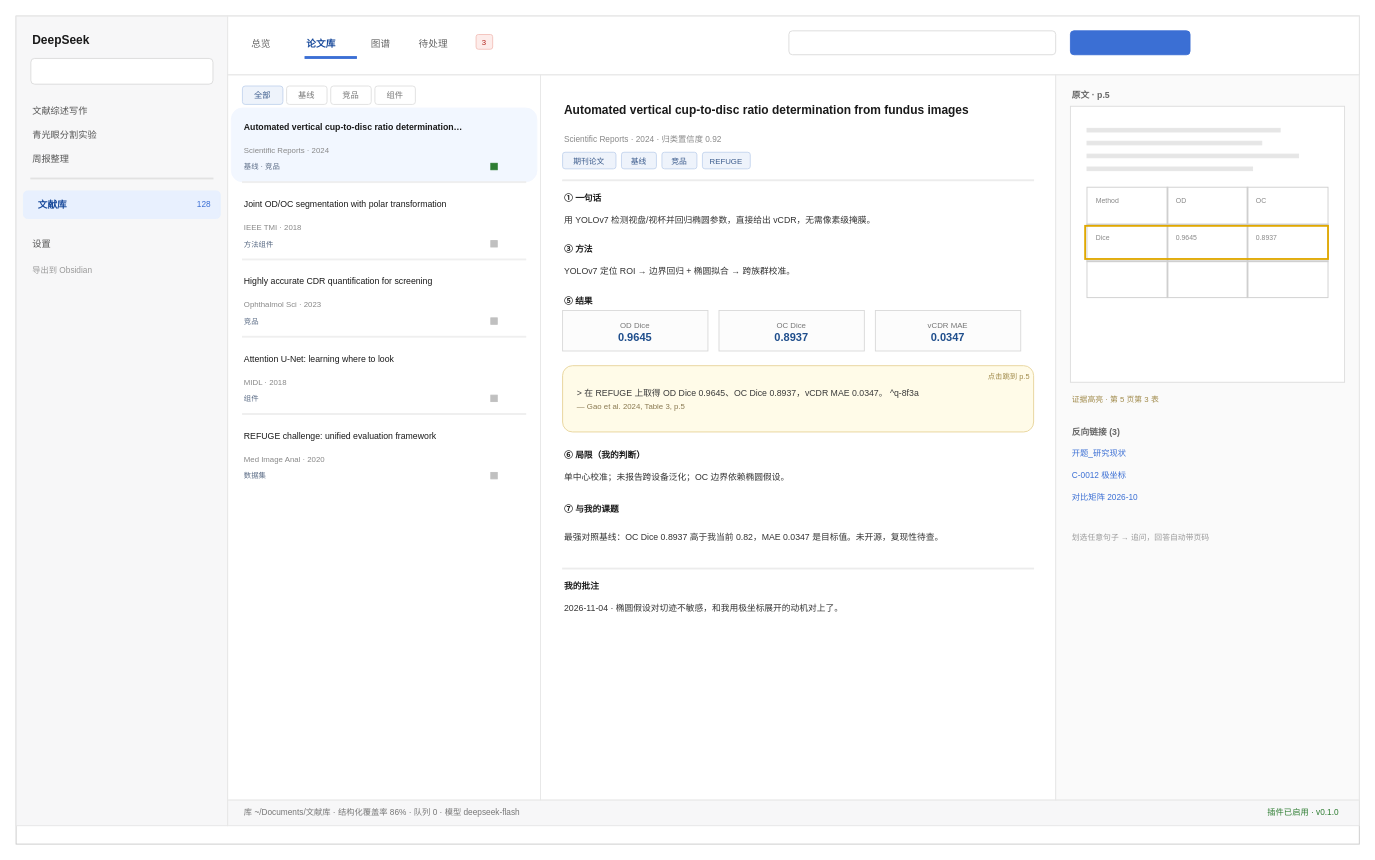
The diagram is 1375 pixels wide and 860 high, and some of its shapes have lost their labels. The box of each missing label's shape, as (x1, y1, x2, y2) in pixels:
搜索 标题 / 方法 / 指标 / 数据集: (788, 30, 1056, 55)
＋ 导入 PDF: (1070, 30, 1190, 55)
＋ 新会话: (30, 58, 213, 84)
